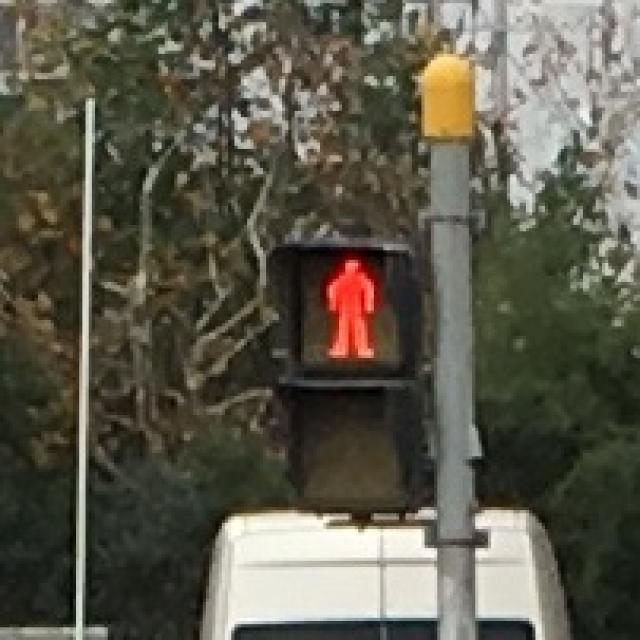red_light: (294, 243, 400, 364)
